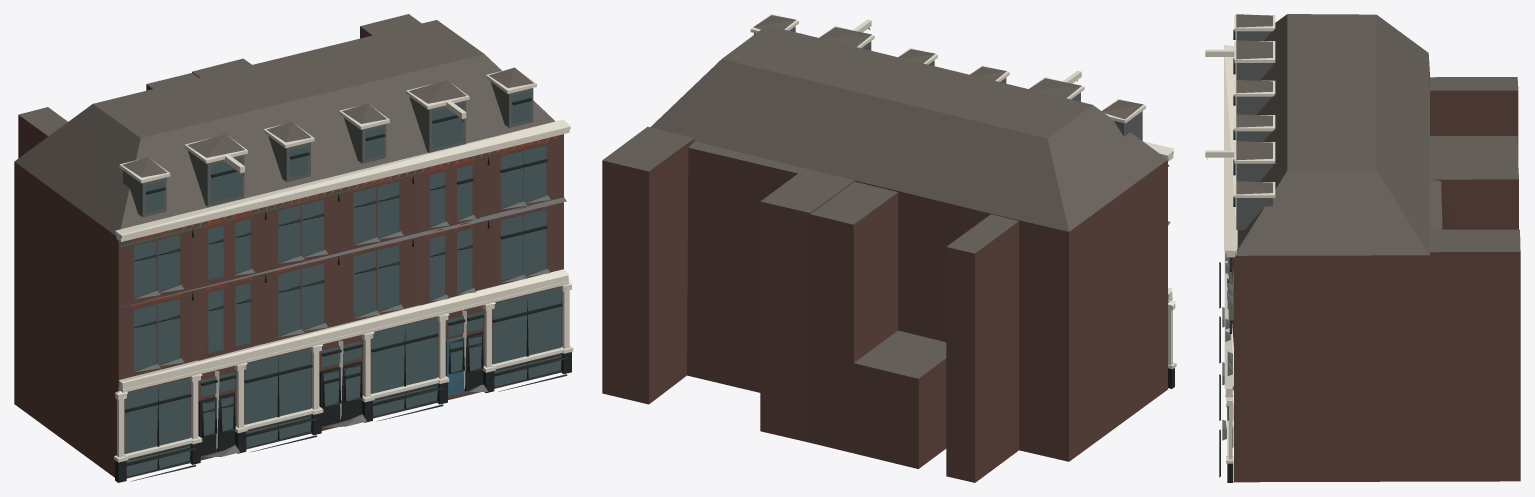
File: electric-ladyland.lod1.glb
3 views of the same model, side by side, from view 1: azimuth 30°, elevation 25°; view 2: azimuth 150°, elevation 25°; view 3: azimuth 270°, elevation 25° (orthographic). The views are drawn at different scales.
Parts seen in each view (by area): view 1: electric-ladyland; view 2: electric-ladyland; view 3: electric-ladyland.
Part boxes in pixels (bbox=[...]): electric-ladyland: bbox=[14, 14, 573, 482]; electric-ladyland: bbox=[602, 14, 1176, 482]; electric-ladyland: bbox=[1205, 14, 1520, 482].
Size of the model in its own units: 19.85 by 12.87 by 12.74.
